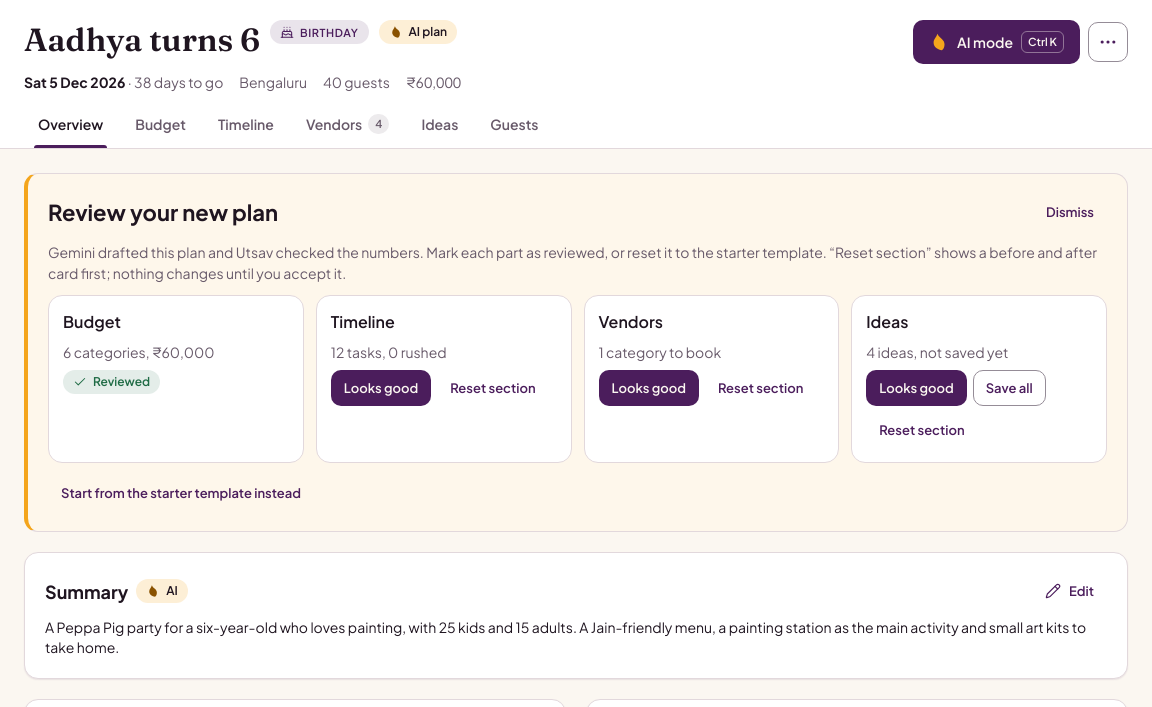
Test: Review your new plan (spec 6.2) › marks sections reviewed, saves all ideas and resets a section through a card
Expected: the text "Reviewed" is shown, [63,370,160,394]
Click the button with aria-label "Looks good: Timeline" at {"x": 381, "y": 388}, box [331,370,431,406]
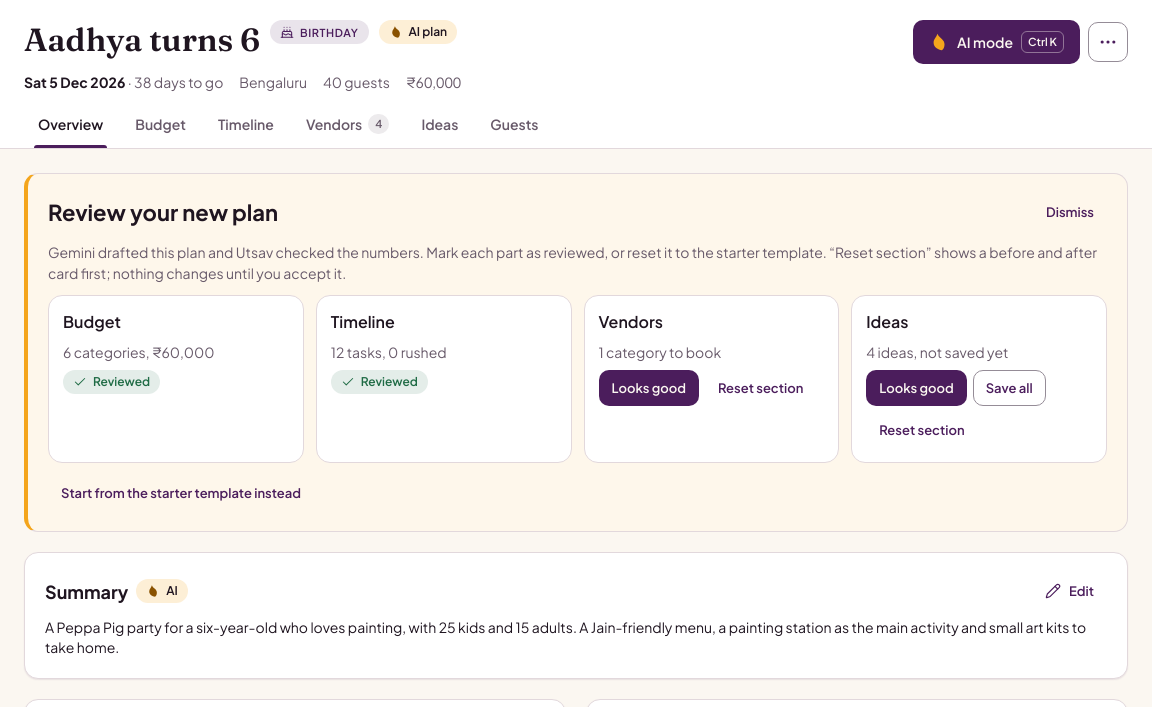
Expected: the text "Reviewed" is shown 2 times, [63,370,160,394]; [331,370,428,394]
Click the button "Save all" at {"x": 1009, "y": 388}, box [973,370,1046,406]
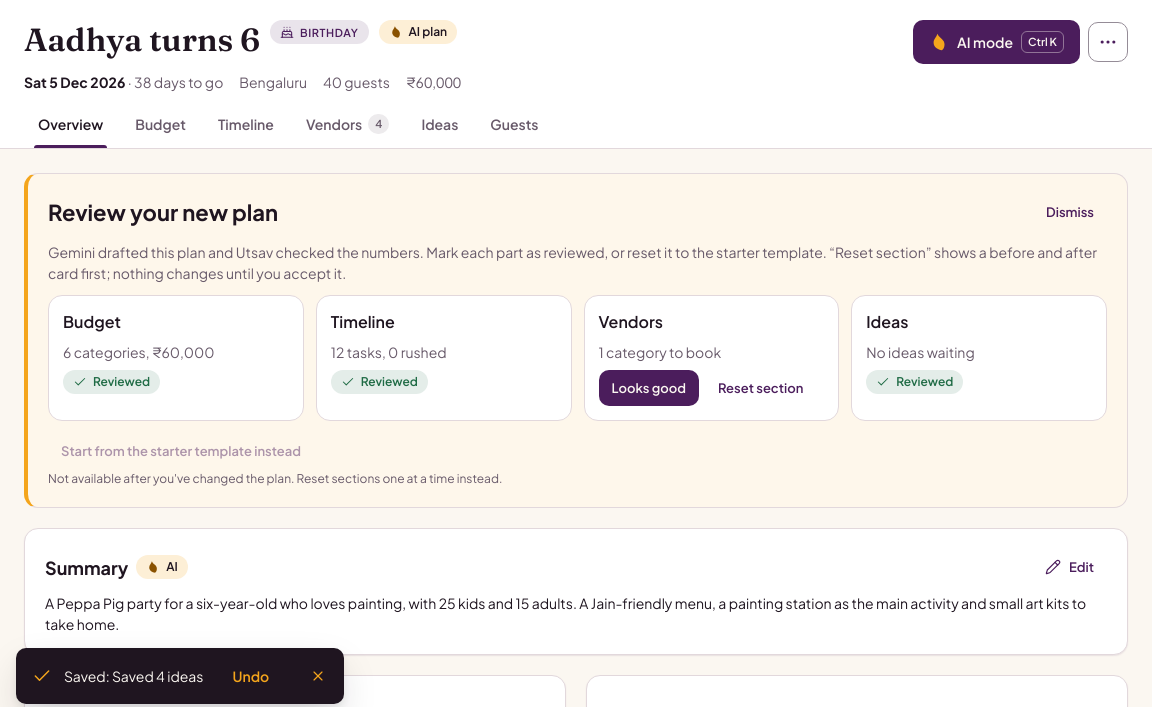
Expected: the text "Reviewed" is shown 3 times, [63,370,160,394]; [331,370,428,394]; [866,370,964,394]
Click the button with aria-label "Reset section: Vendors" at {"x": 761, "y": 388}, box [705,370,816,406]
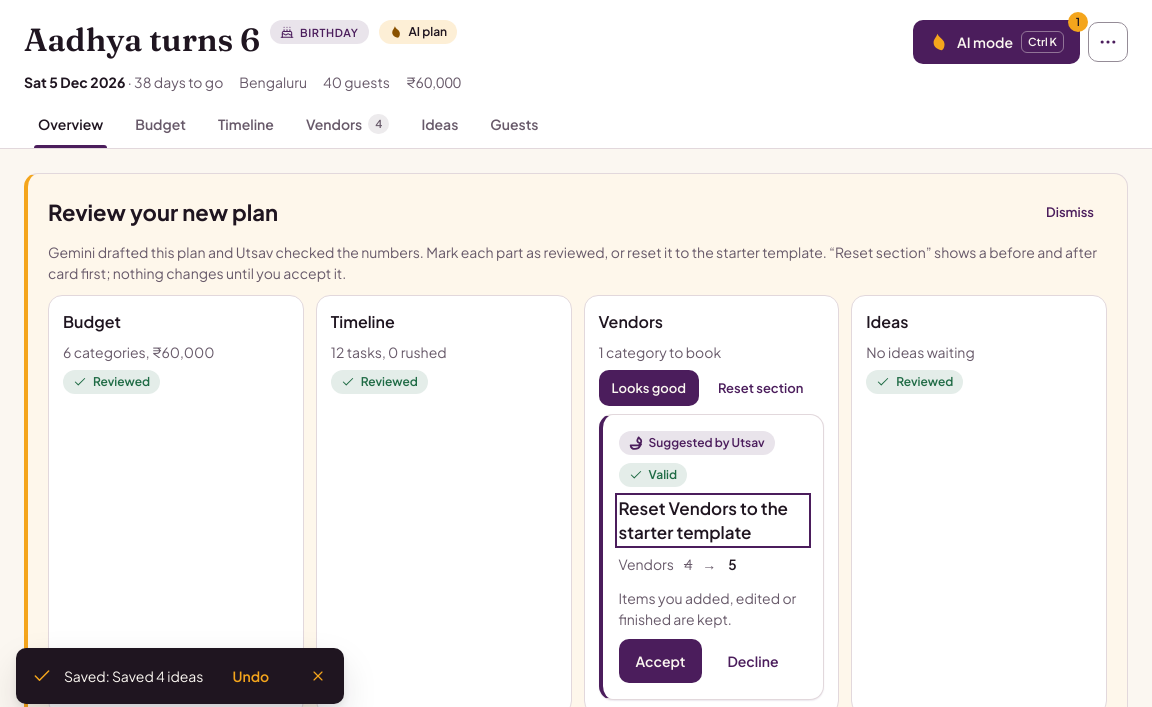
Click the button with aria-label "Accept: Reset Vendors to the starter template" at {"x": 660, "y": 661}, box [618,639,702,683]
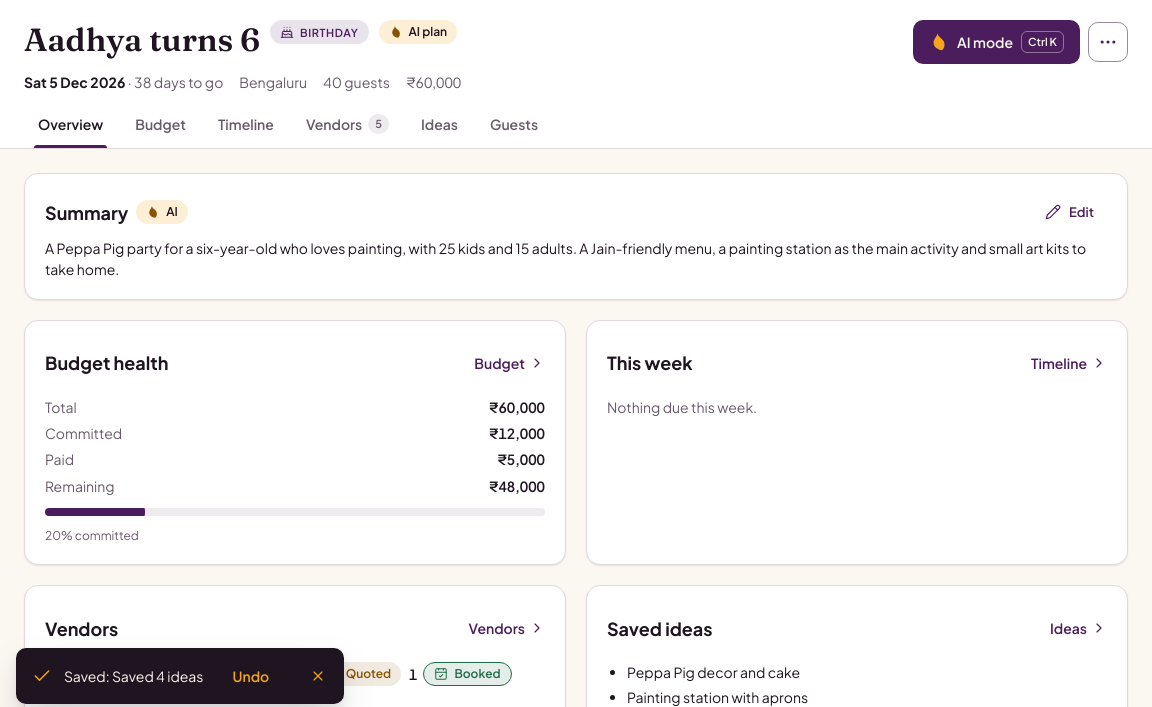
Expected: the heading "Review your new plan" is gone
